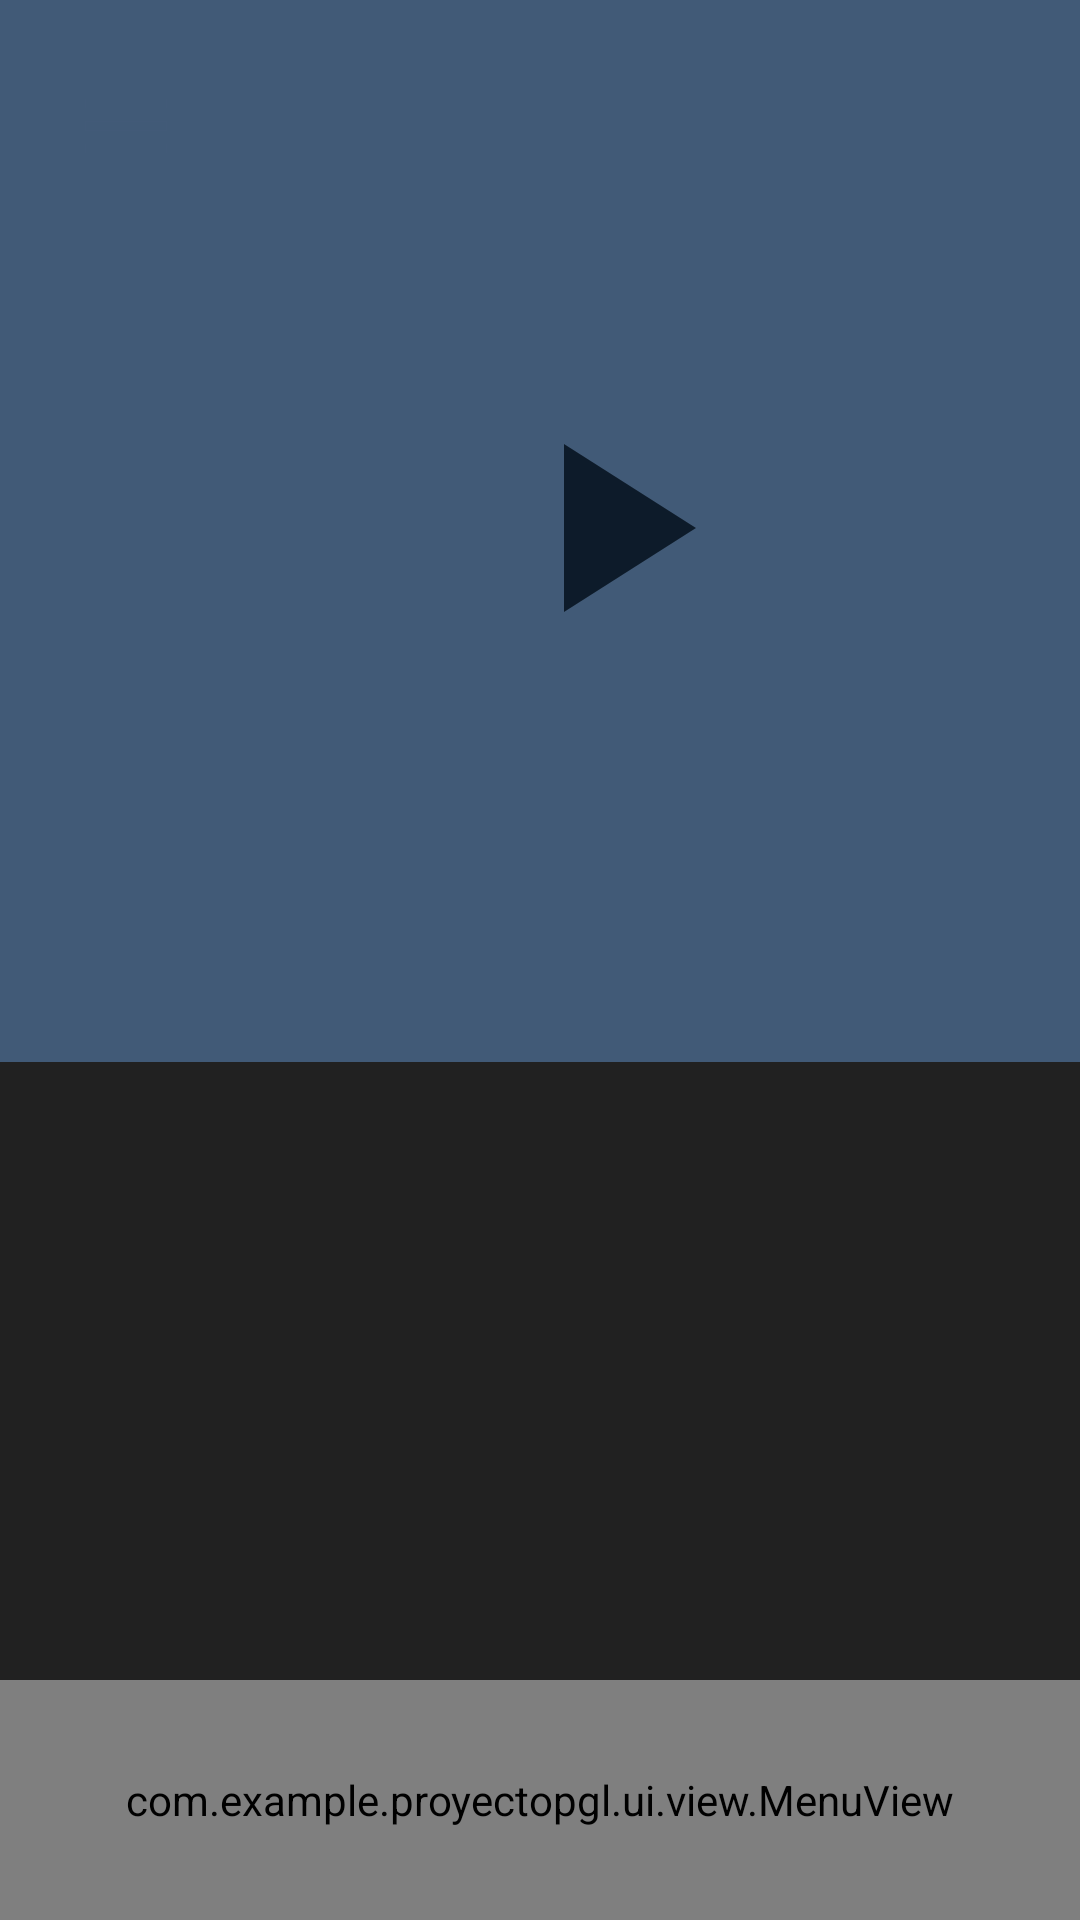

Where to tap for icons on this 1080 x 1920 app screen, as [x,y]:
Reproducir/Pausar: [629,528]
